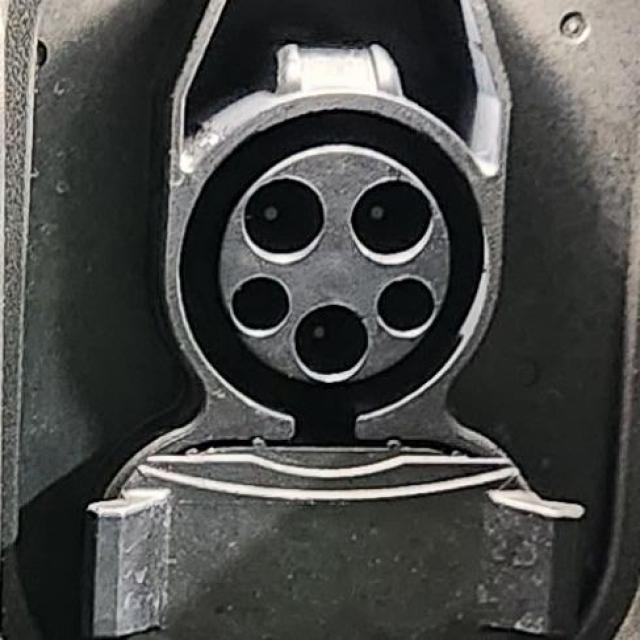Type 1: (187, 130, 478, 407)
